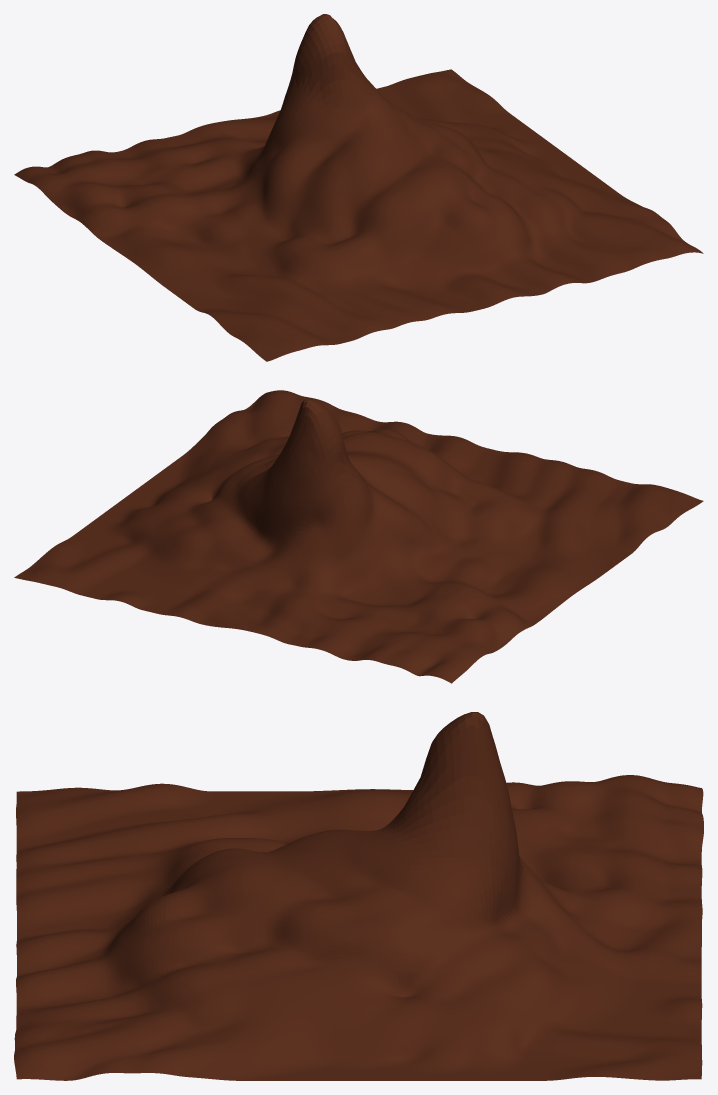
The model's file is mountainPeak.glb.
3 views of the same model, one above another, from view 1: azimuth 30°, elevation 25°; view 2: azimuth 150°, elevation 25°; view 3: azimuth 270°, elevation 25° (orthographic). The views are drawn at different scales.
Parts seen in each view (by area): view 1: Plane; view 2: Plane; view 3: Plane.
Boxes of the visible parts, x1,y1,x2,y2 form: Plane: (14,14,703,361); Plane: (14,390,703,683); Plane: (14,712,703,1080).
Bounding box in the file's own units: 47.2 × 17.18 × 47.01.
1 material, 1 textured.
